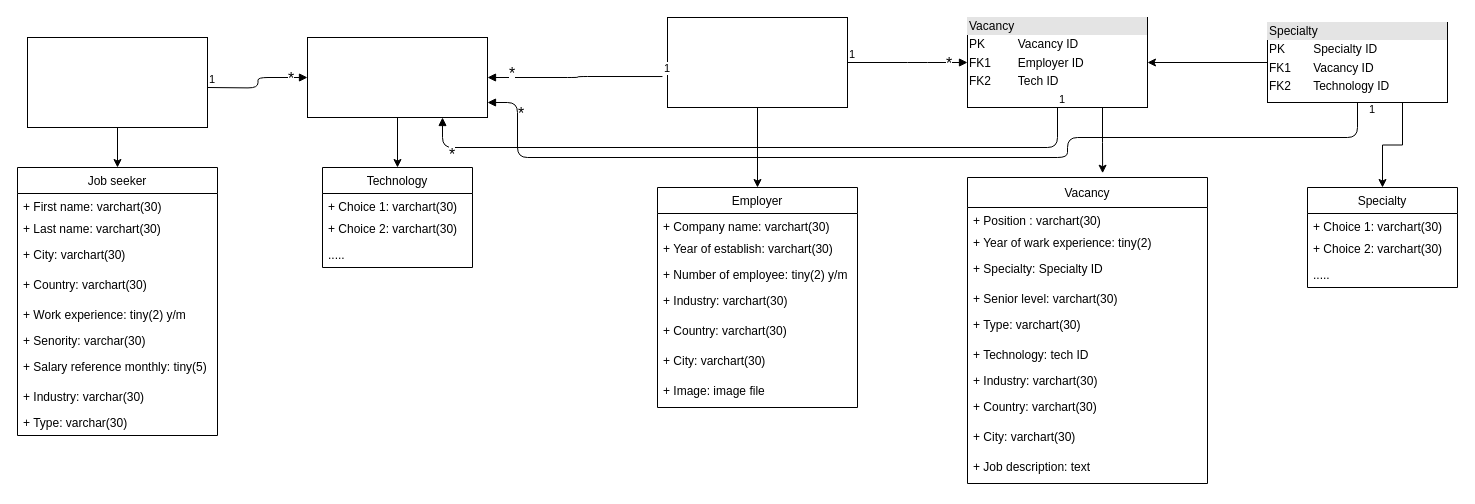
Some shapes in this 1475 by 504 pixel diagram are drawn without their labels. Here are the shapes that lost their labels. From the top down, the box of each, then its label:
(26, 36, 208, 128): Job seeker PK Employee ID FK1 Tech ID fieldname
(306, 36, 488, 118): Technology PK Tech ID FK1 Employee ID fieldname
(666, 16, 848, 108): employer PK Employer ID FK1 Tech ID fieldname
